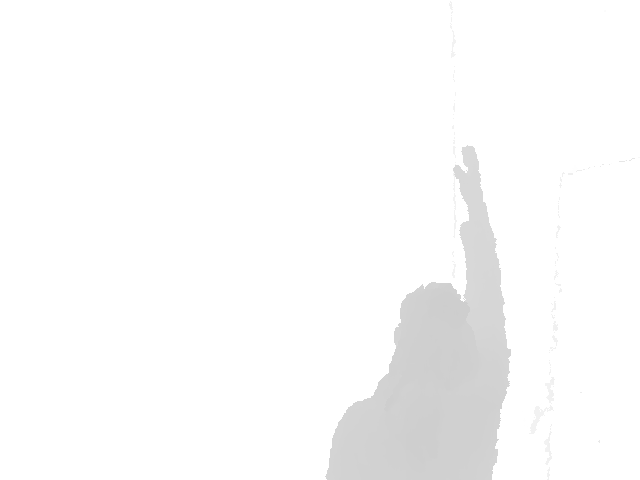hand: (451, 143, 485, 201)
head: (391, 280, 479, 386)
person: (324, 144, 514, 480)
